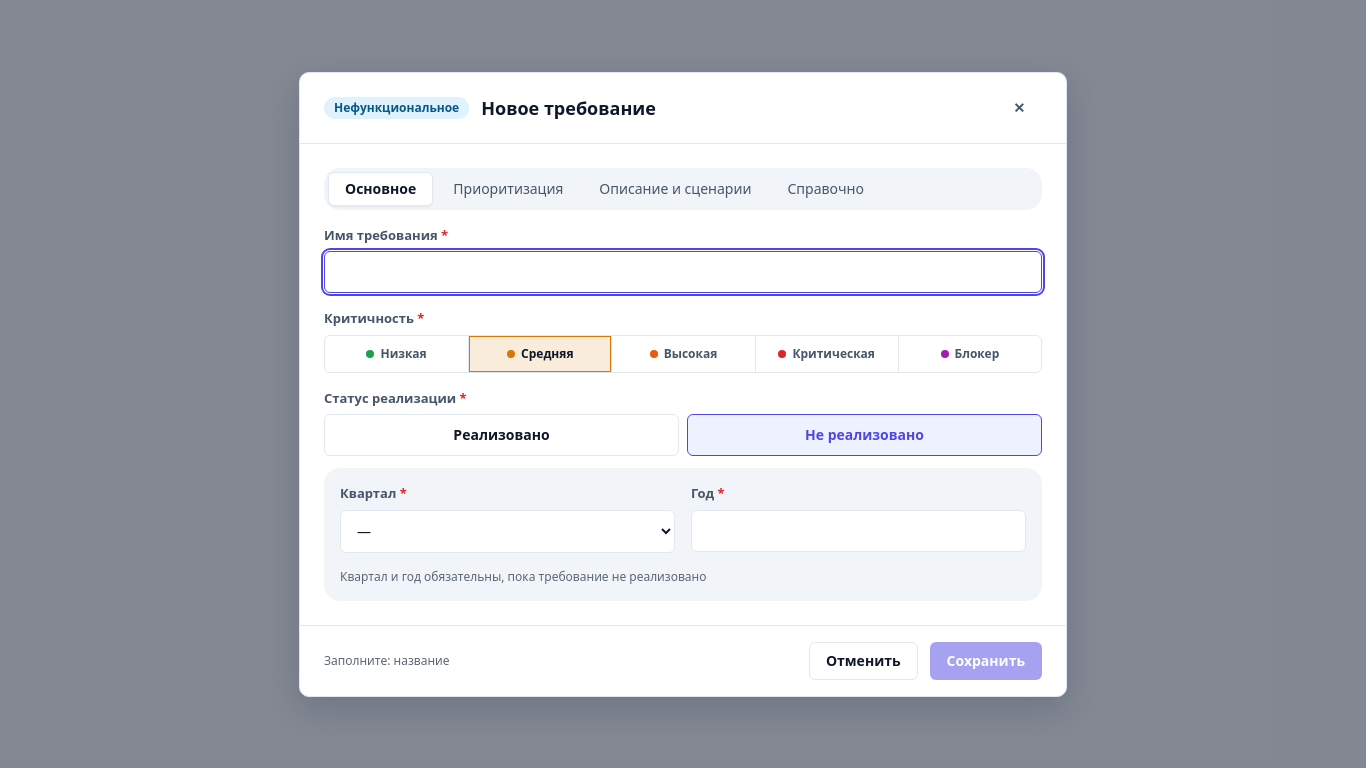
Test: RequirementModal — link sections & error branches (Task 12 · F-1) › uniqueness check for an NFR shows the NFR-specific «занято» message
Type "Надёжность" into the field with test id "req-name".
click(683, 272); type("Надёжность")  # box [324, 251, 1042, 293]
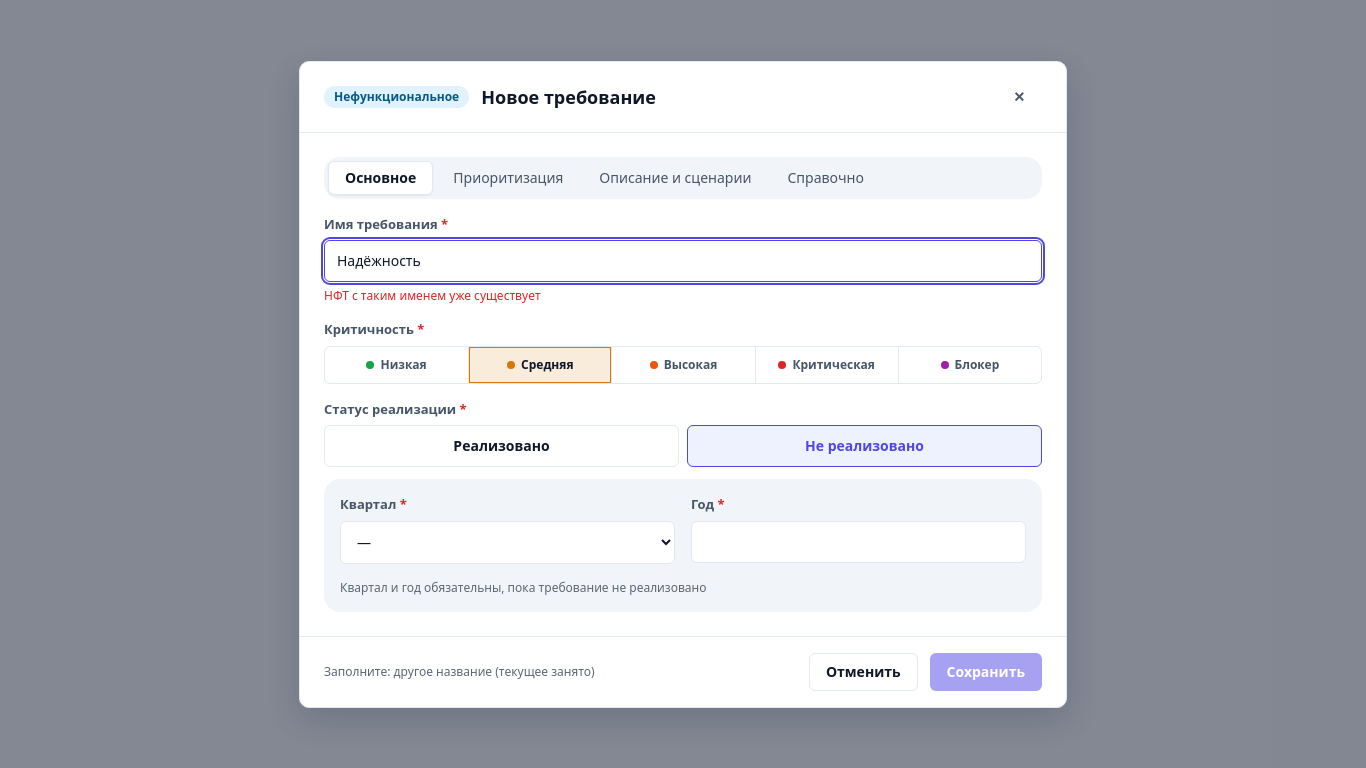
Check: the button with test id "req-submit" is disabled, box [930, 652, 1042, 690]
Check: the text with test id "req-name-status" reads "НФТ с таким именем уже существует", box [324, 287, 541, 304]
